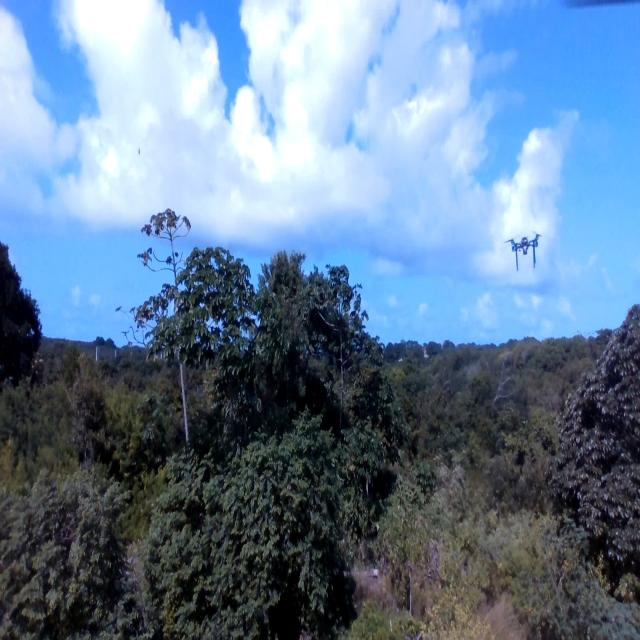-uav-: (498, 219, 551, 283)
